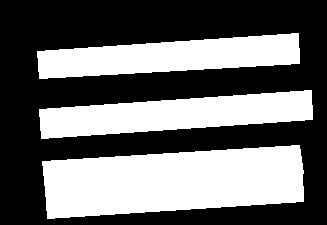parkingspot: (39, 90, 312, 138), (45, 171, 303, 218), (37, 33, 299, 78), (42, 145, 303, 190)
